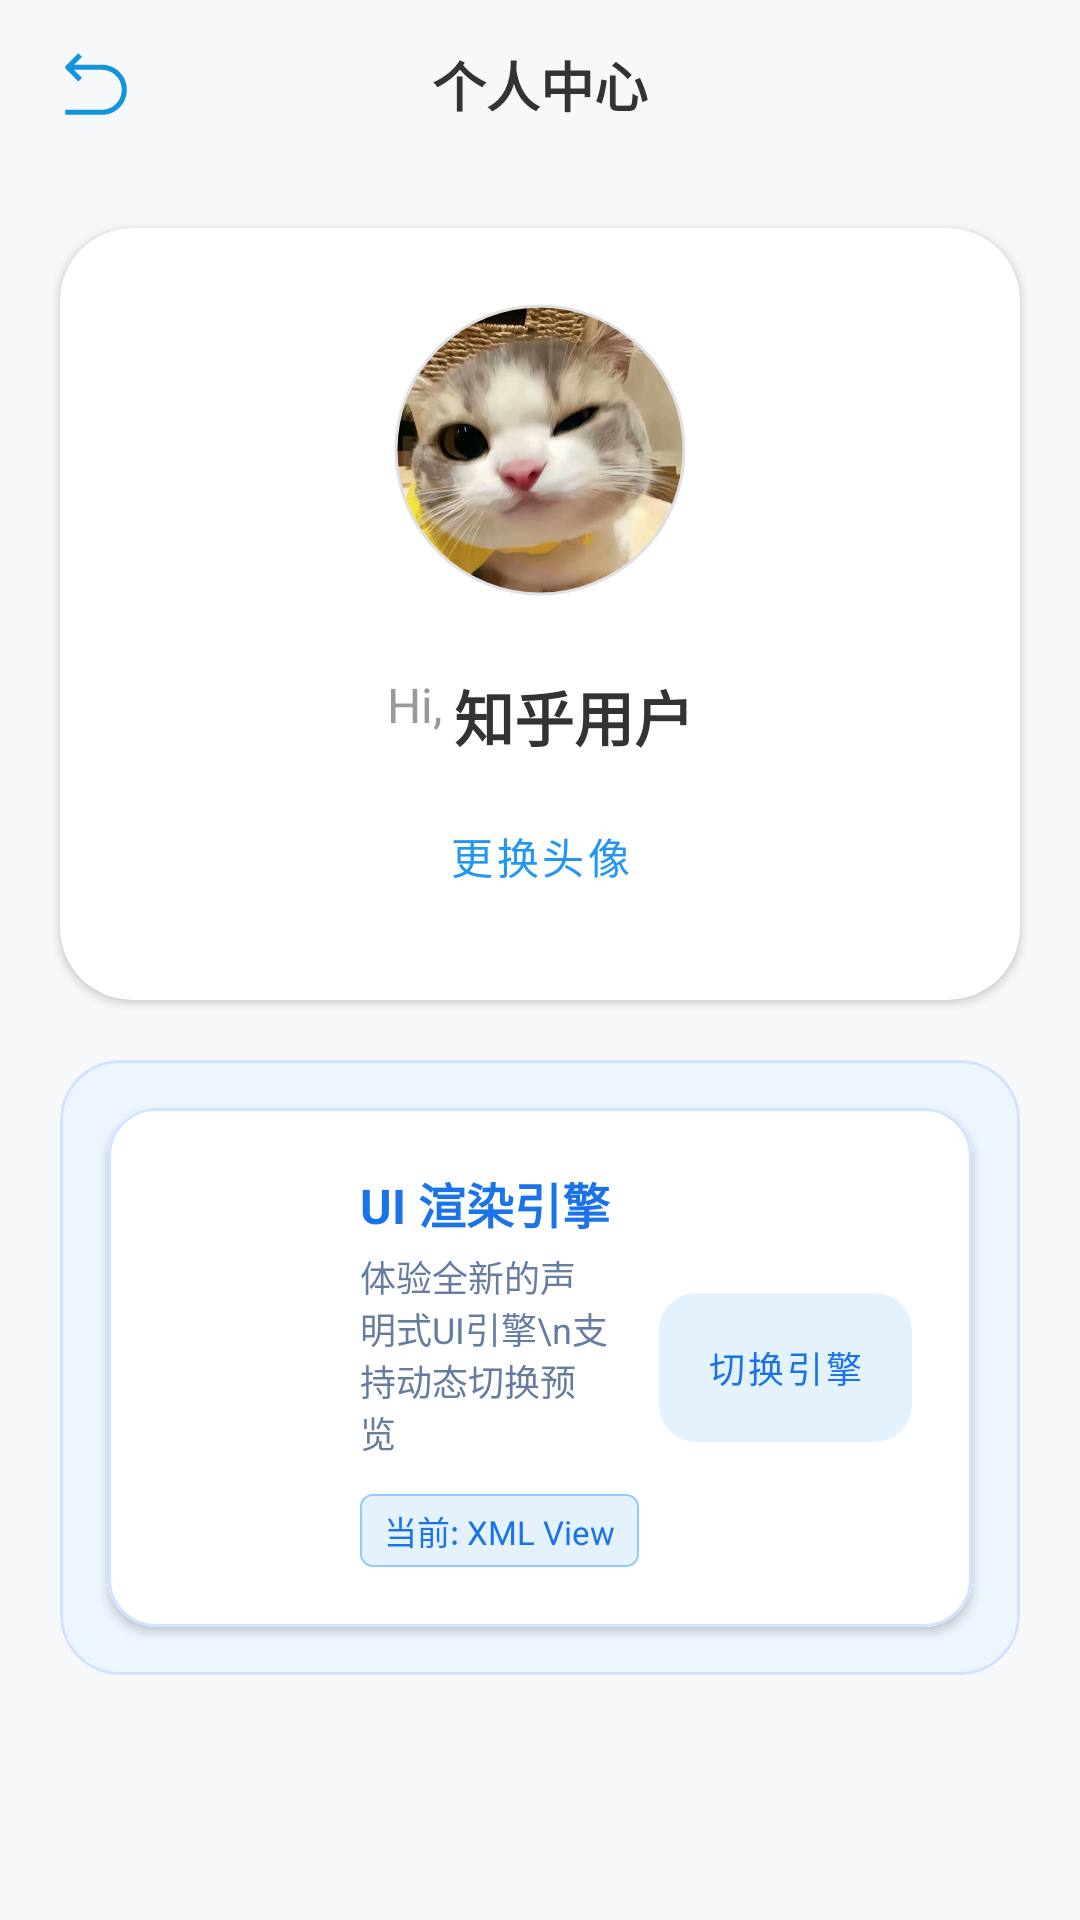

Icons on this 1080×1920 Android screen, each with its box as {"x1": x1, "y1": y1, "x2": x2, "y2": y2}:
back: {"x1": 65, "y1": 53, "x2": 127, "y2": 115}
tou: {"x1": 395, "y1": 305, "x2": 685, "y2": 595}
